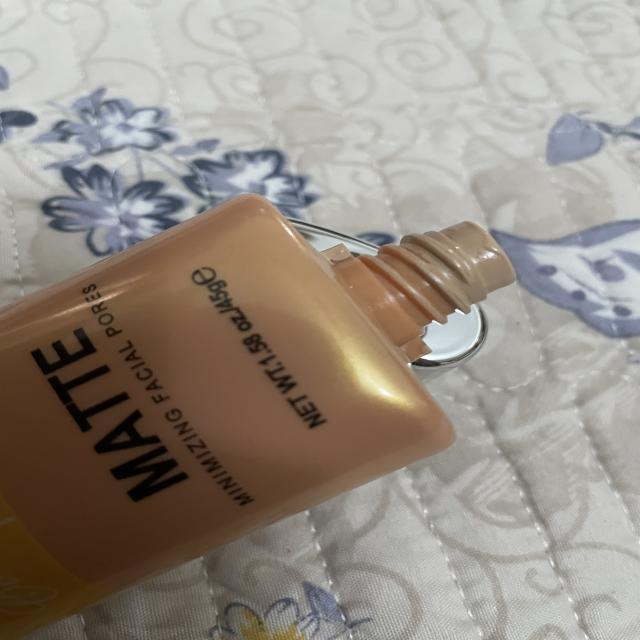bb cream: (0, 161, 542, 640)
